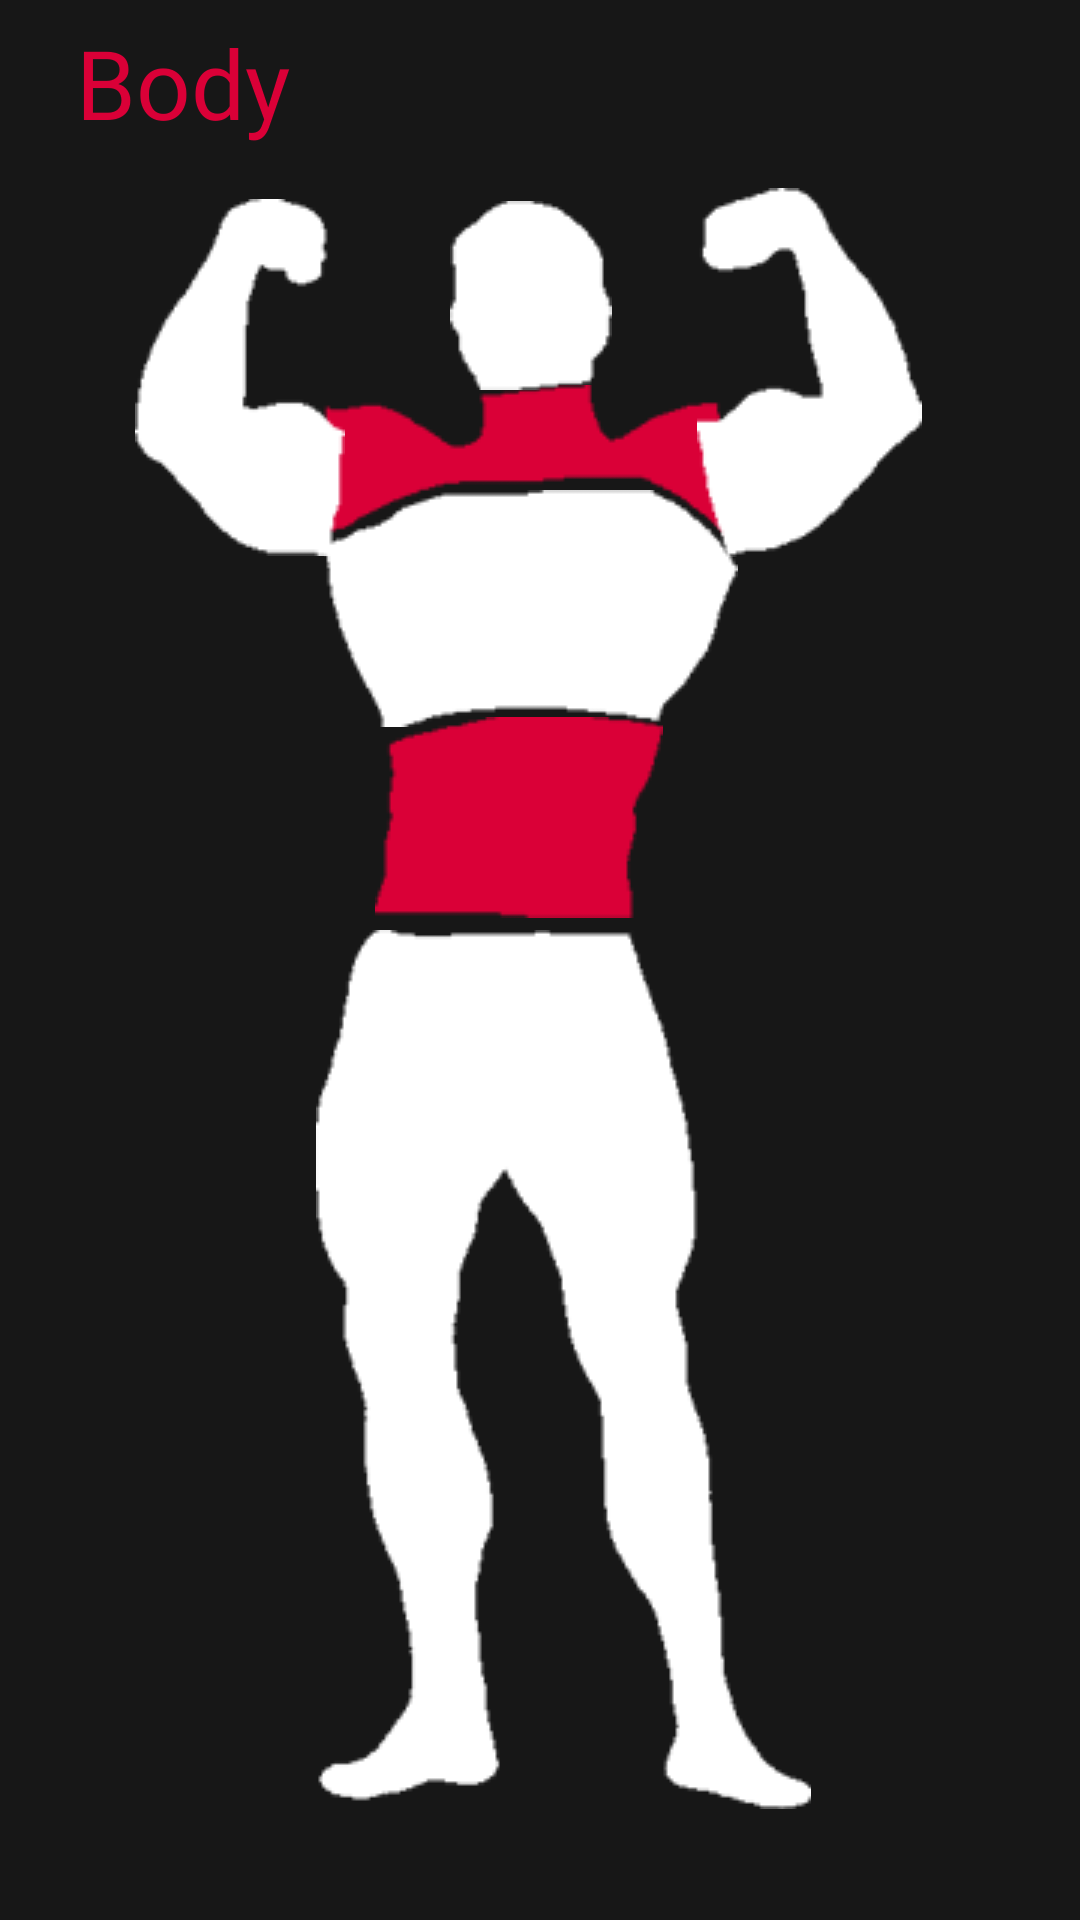

Named icons in this screenshot (1080w x 1920h) and their centers, (x=x, y=y):
arm left: (x=240, y=377)
core: (x=519, y=817)
face: (x=531, y=295)
